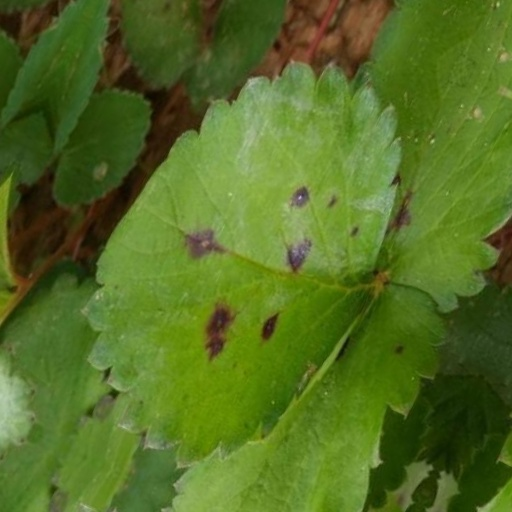Leaf Spot: (113, 28, 382, 463), (279, 0, 471, 298), (265, 283, 479, 511), (18, 362, 126, 511)
